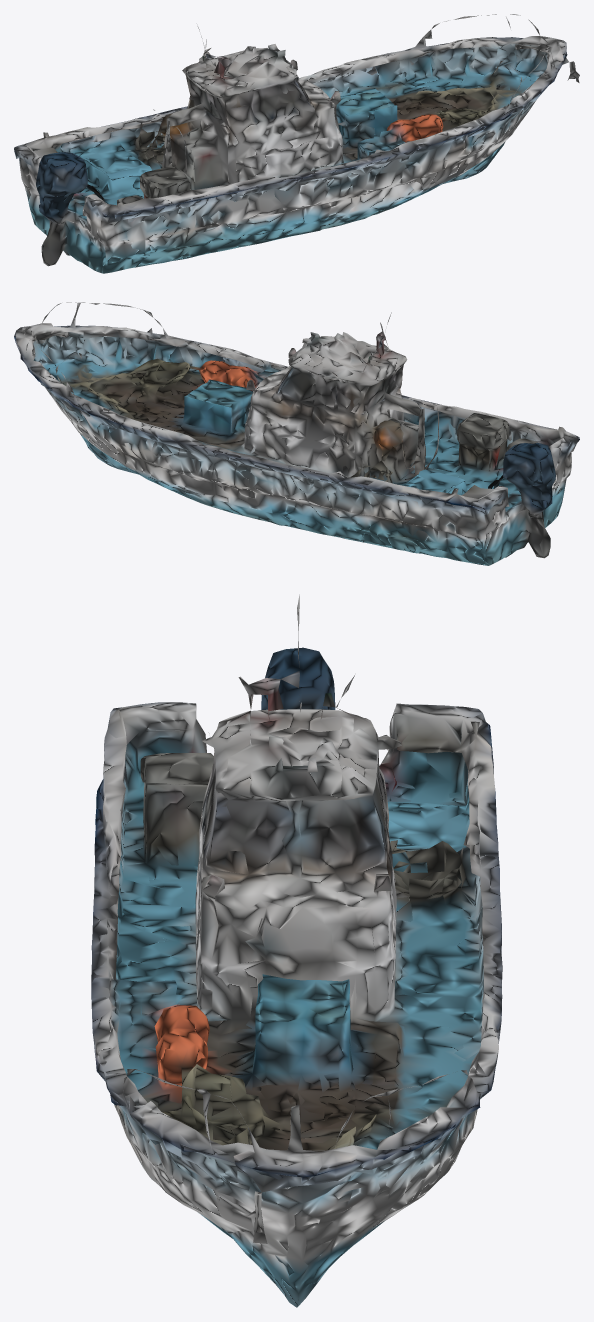
The model's file is fishing_boat.1.glb.
The picture shows the model from 3 angles, top to bottom: view 1: azimuth 30°, elevation 25°; view 2: azimuth 150°, elevation 25°; view 3: azimuth 270°, elevation 25°; orthographic projection. The views are drawn at different scales.
Visible parts, largest first — view 1: lod; view 2: lod; view 3: lod.
Part boxes in pixels (x1,y1,x2,y2): lod: (14,14,579,273); lod: (14,302,579,565); lod: (91,594,502,1307).
Size of the model in its own units: 0.996 by 0.3974 by 0.3339.
